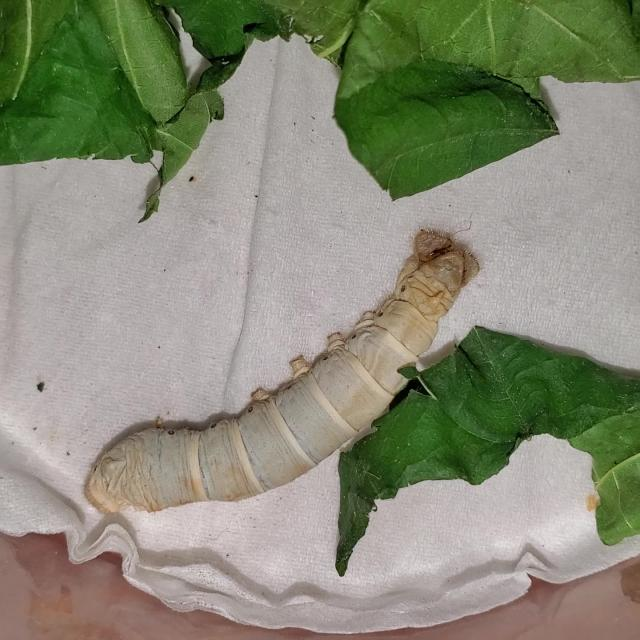Grasserie: (78, 226, 488, 534)
